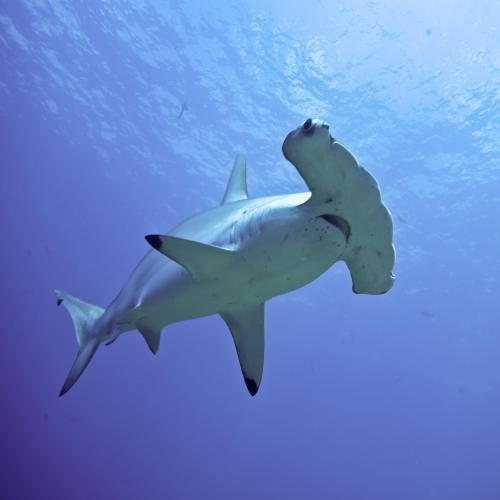shark-endangered: (55, 121, 396, 400)
